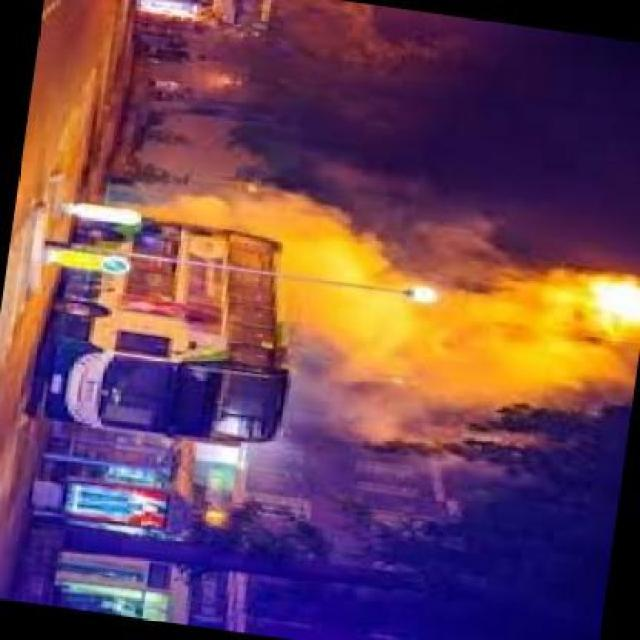Fire: (576, 255, 640, 342)
Smoke: (298, 284, 560, 602), (198, 156, 514, 274)
